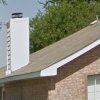Chimney: (2, 7, 34, 74)
